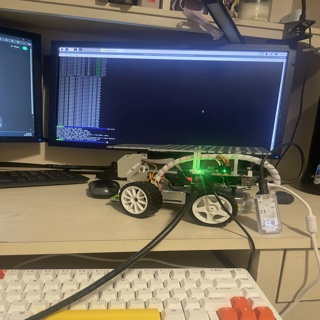vehicle: (109, 140, 281, 227)
